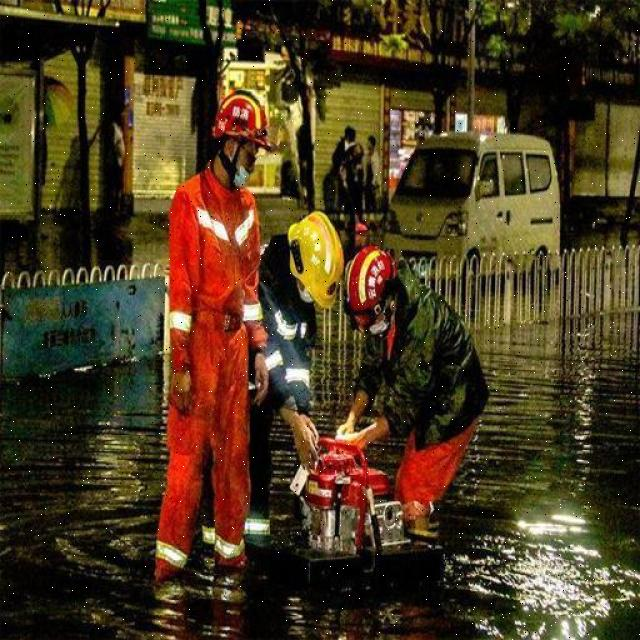rescuer: (142, 48, 277, 597), (350, 234, 479, 558), (256, 182, 343, 554)
